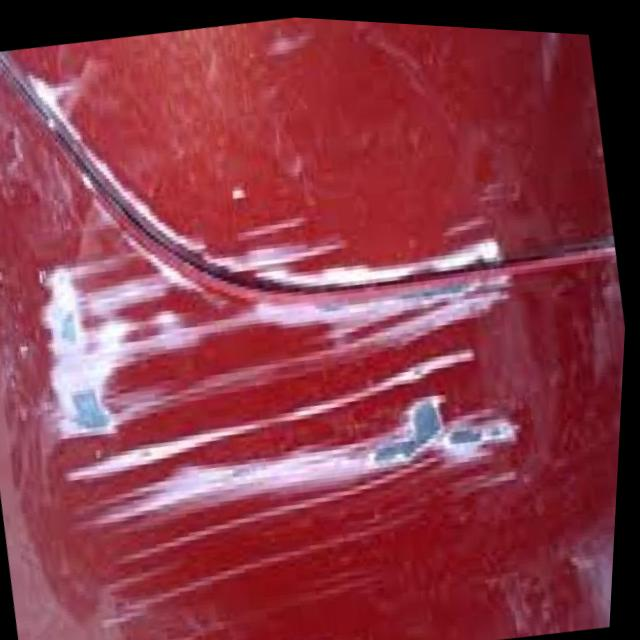Scratch: (11, 146, 559, 576)
